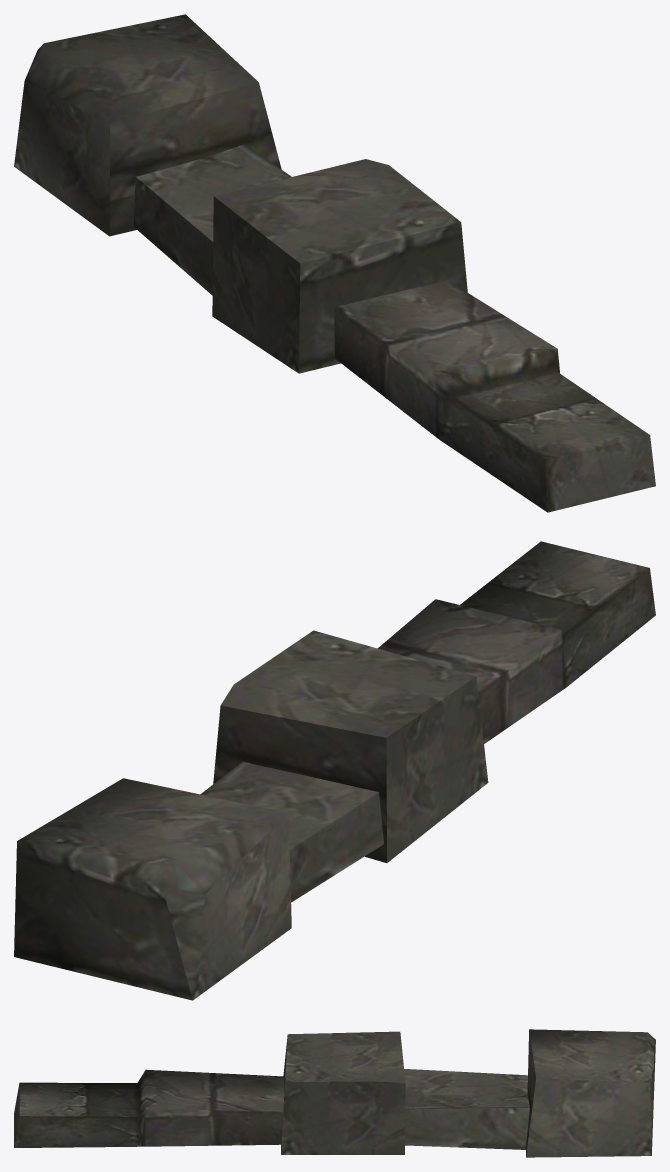
The model's file is h5_shitoubian.FBX.
3 renders of one model, top to bottom at view 1: azimuth 30°, elevation 25°; view 2: azimuth 150°, elevation 25°; view 3: azimuth 270°, elevation 25°, orthographic. The views are drawn at different scales.
Parts seen in each view (by area): view 1: h5_shitoubian; view 2: h5_shitoubian; view 3: h5_shitoubian.
Boxes of the visible parts, x1,y1,x2,y2 form: h5_shitoubian: (14,14,655,512); h5_shitoubian: (14,541,655,1000); h5_shitoubian: (14,1029,655,1157).
Bounding box in the file's own units: 1.77 × 1.23 × 8.49.
